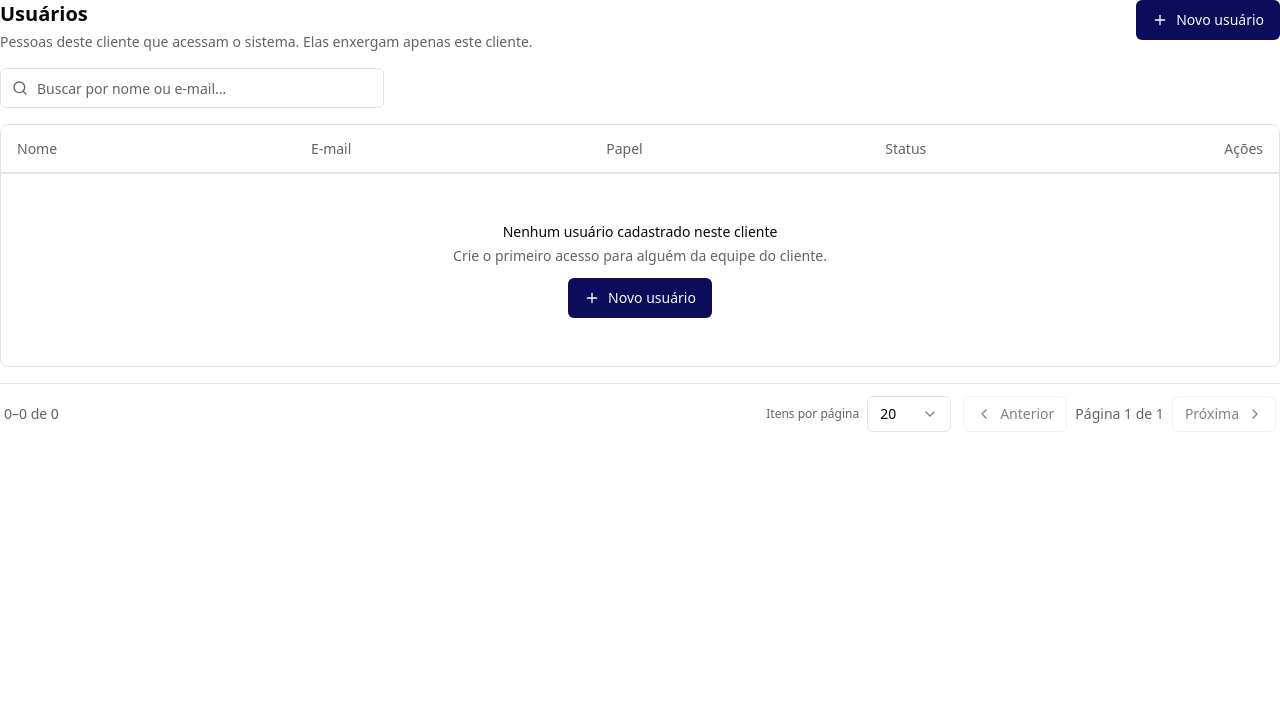
Test: ClientUsersScreen — lista › empty-state traz um botão real para o primeiro cadastro
Check: the text "Nenhum usuário cadastrado neste cliente" is shown, box [503, 222, 777, 240]
Click the button "Novo usuário" below "Nenhum usuário cadastrado neste cliente".
click(640, 298)  # box [568, 278, 712, 318]
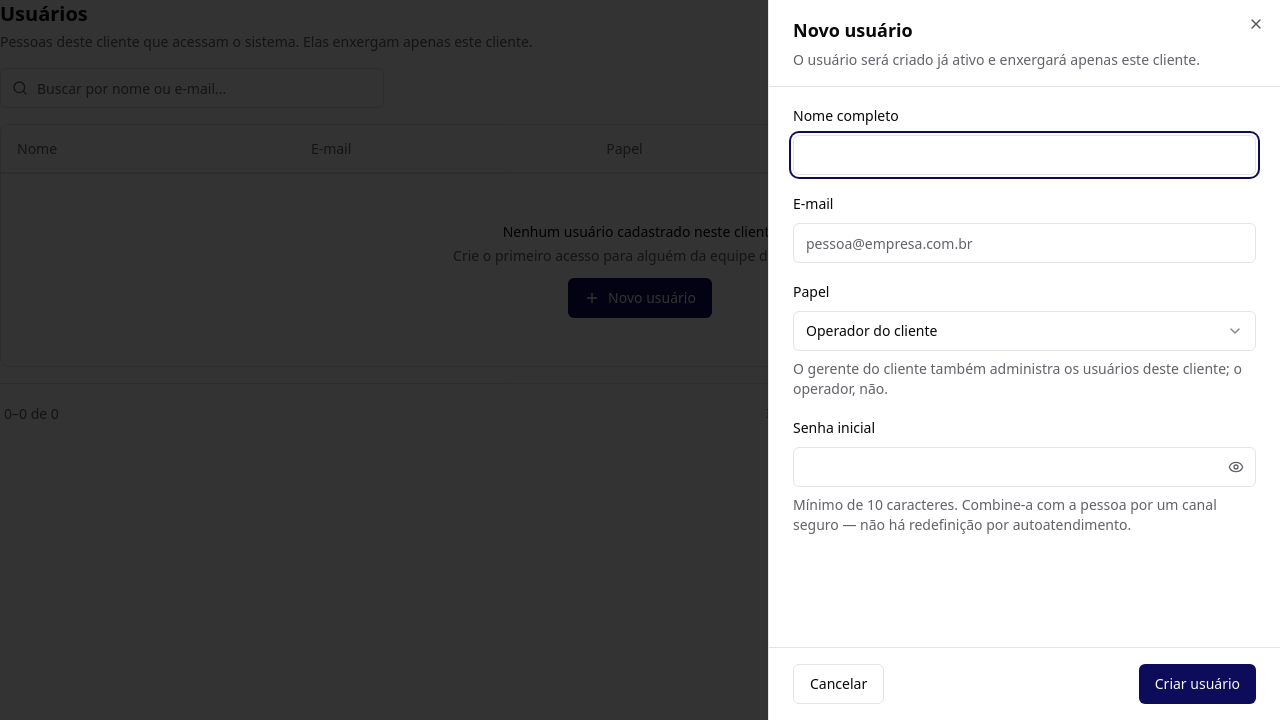
Check: the dialog is shown, box [768, 0, 1279, 719]
